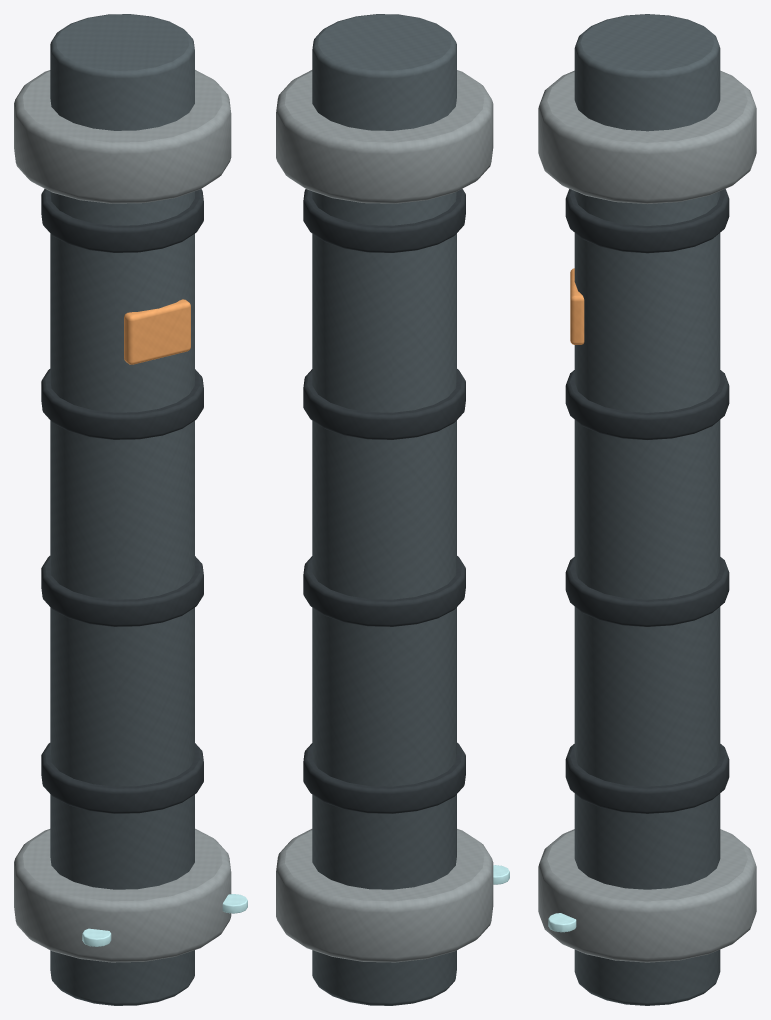
The model's file is PipeSegment.glb.
3 renders of one model, left to right at view 1: azimuth 30°, elevation 25°; view 2: azimuth 150°, elevation 25°; view 3: azimuth 270°, elevation 25°, orthographic.
Parts seen in each view (by area): view 1: PipeSegment_Mesh; view 2: PipeSegment_Mesh; view 3: PipeSegment_Mesh.
Boxes of the visible parts, x1,y1,x2,y2 form: PipeSegment_Mesh: (14,14,247,1005); PipeSegment_Mesh: (276,14,509,1005); PipeSegment_Mesh: (538,14,756,1005).
Bounding box in the file's own units: 0.36 × 1.7 × 0.36.
5 materials, 5 textured.
